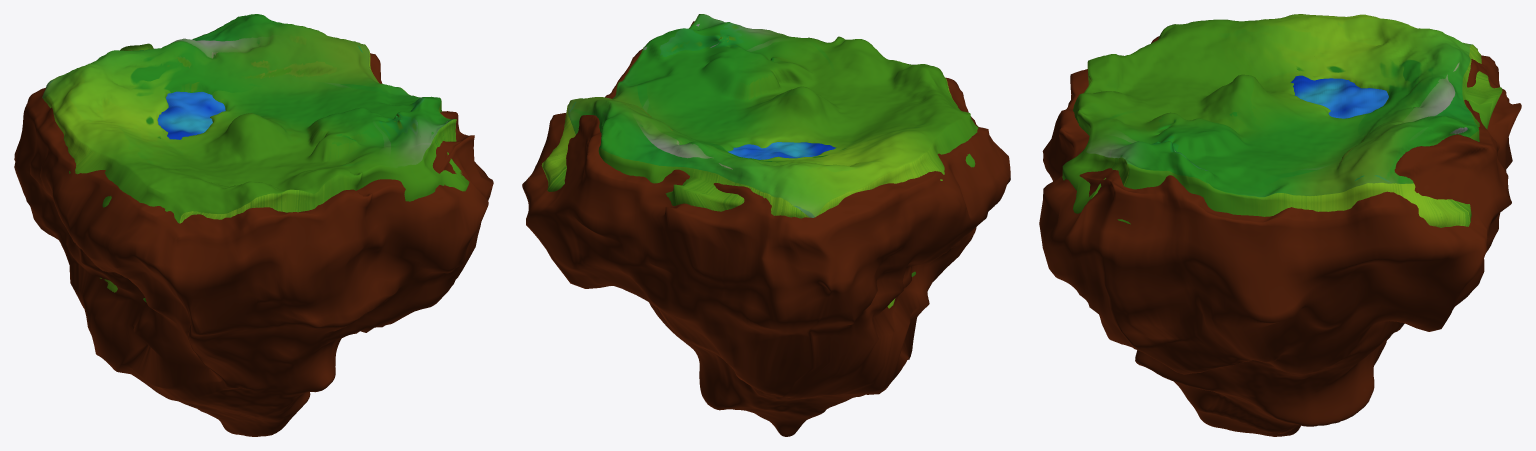
Rendered from LAND.glb.
The picture shows the model from 3 angles, left to right: view 1: azimuth 30°, elevation 25°; view 2: azimuth 150°, elevation 25°; view 3: azimuth 270°, elevation 25°; orthographic projection. The views are drawn at different scales.
Visible parts, largest first — view 1: Plane.001, Plane, Plane.002; view 2: Plane.001, Plane, Plane.002; view 3: Plane.001, Plane, Plane.002.
Part boxes in pixels (<box>): Plane.001: <box>14,53,493,436</box>; Plane: <box>42,14,469,302</box>; Plane.002: <box>157,91,225,139</box>; Plane.001: <box>522,21,1010,436</box>; Plane: <box>541,14,978,308</box>; Plane.002: <box>728,142,836,159</box>; Plane.001: <box>1039,36,1521,436</box>; Plane: <box>1062,14,1502,227</box>; Plane.002: <box>1290,75,1388,118</box>.
Bounding box in the file's own units: 176 × 151 × 176.
3 materials, 2 textured.
